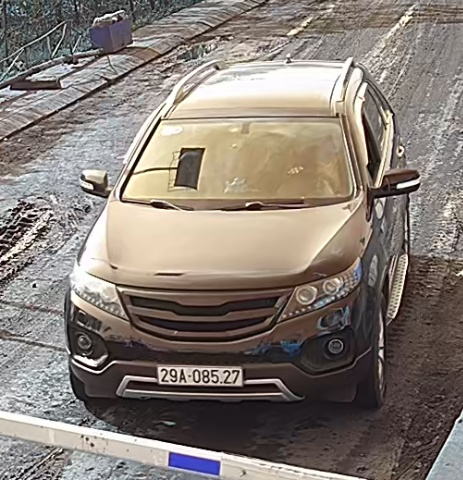vehicle plate: (154, 360, 247, 387)
